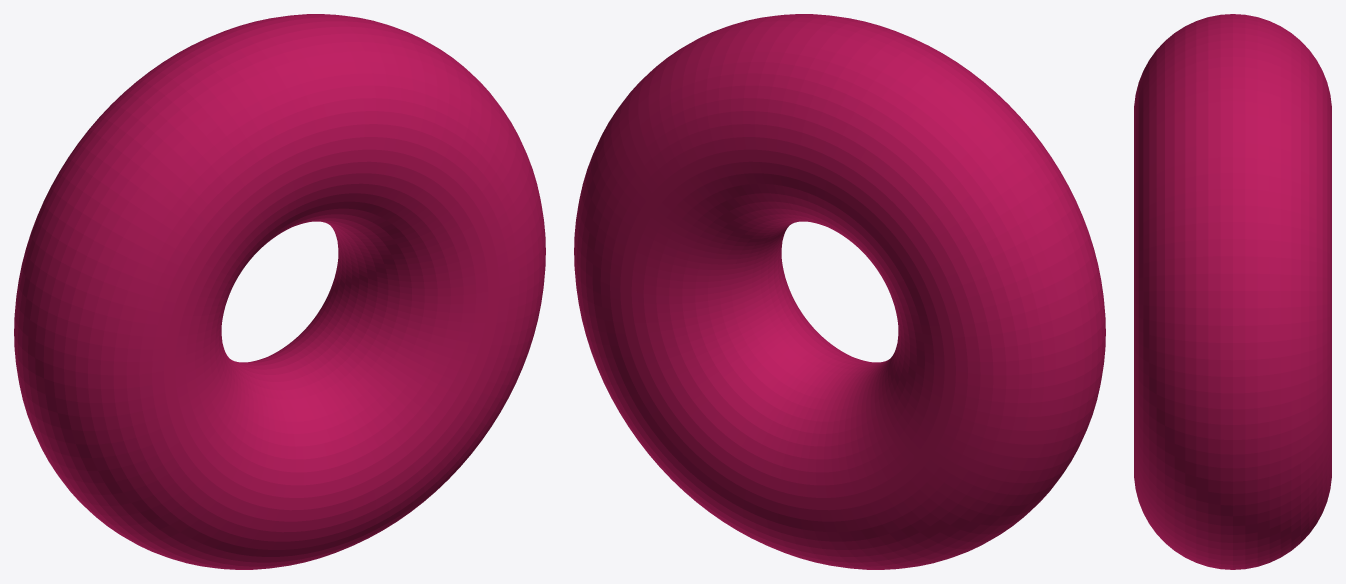
3 renders of one model, left to right at view 1: azimuth 30°, elevation 25°; view 2: azimuth 150°, elevation 25°; view 3: azimuth 270°, elevation 25°, orthographic. The views are drawn at different scales.
Parts seen in each view (by area): view 1: world; view 2: world; view 3: world.
Boxes of the visible parts, x1=… form: world: x1=14, y1=14, x2=545, y2=569; world: x1=574, y1=14, x2=1105, y2=569; world: x1=1134, y1=14, x2=1331, y2=569.
Bounding box in the file's own units: 22.8 × 22.8 × 8.12.
